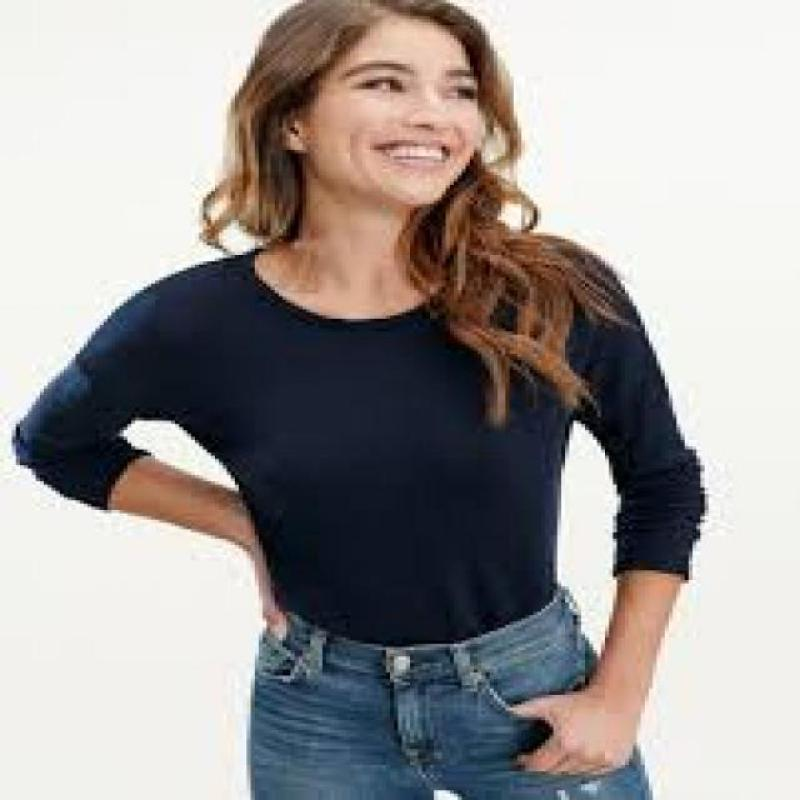long sleeve shirt: (13, 247, 709, 652)
trousers: (246, 586, 652, 800)
